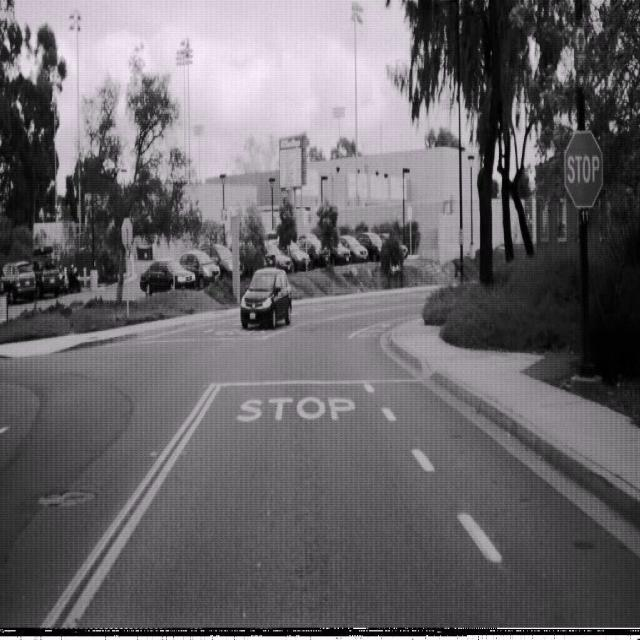stop: (564, 129, 603, 207)
